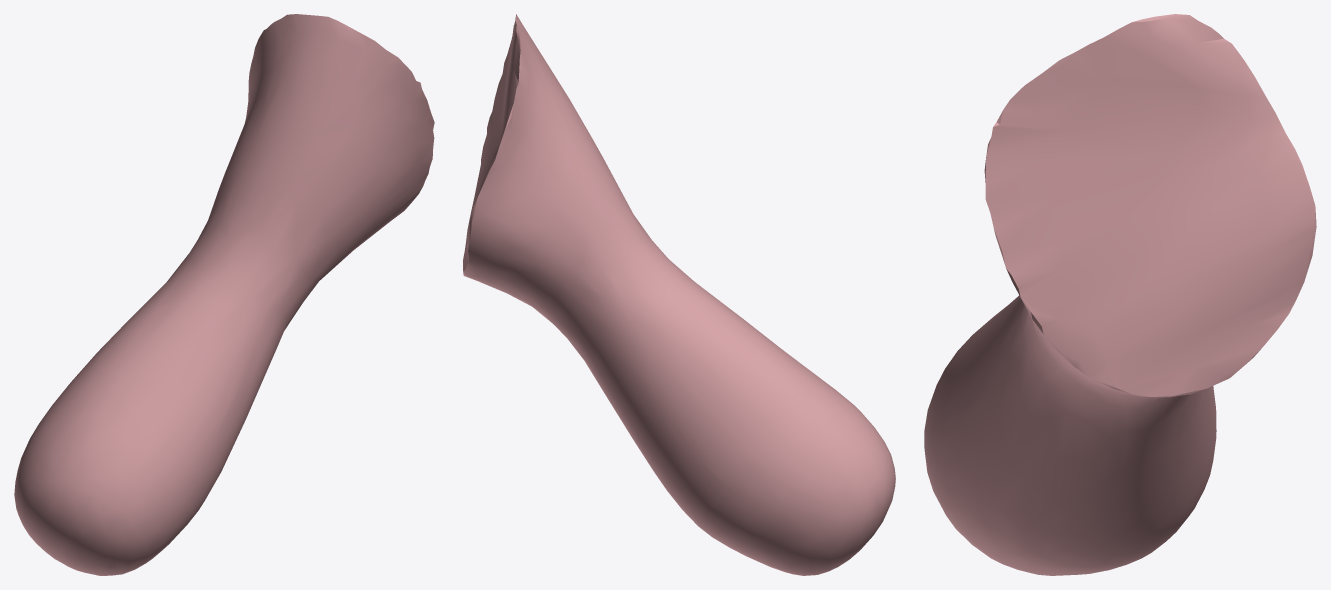
The model's file is fma7272_mm532.glb.
The picture shows the model from 3 angles, left to right: view 1: azimuth 30°, elevation 25°; view 2: azimuth 150°, elevation 25°; view 3: azimuth 270°, elevation 25°; orthographic projection. The views are drawn at different scales.
Visible parts, largest first — view 1: FMA7272_MM532; view 2: FMA7272_MM532; view 3: FMA7272_MM532.
Part boxes in pixels (x1=…): FMA7272_MM532: x1=14, y1=14, x2=434, y2=575; FMA7272_MM532: x1=463, y1=14, x2=895, y2=575; FMA7272_MM532: x1=924, y1=14, x2=1316, y2=575.
Bounding box in the file's own units: 0.0177 × 0.0205 × 0.00995.
